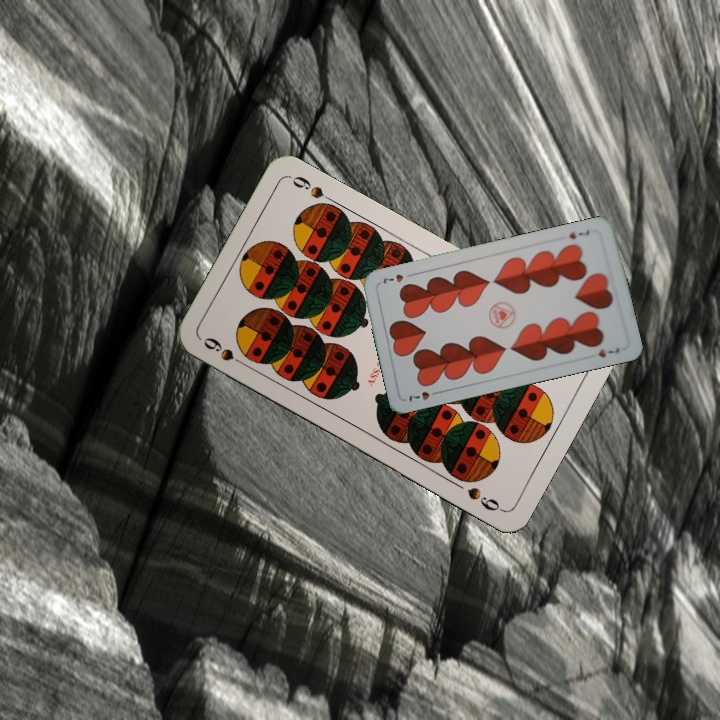H7: (405, 387, 443, 404), (565, 226, 592, 242)
S9: (199, 333, 252, 371)
